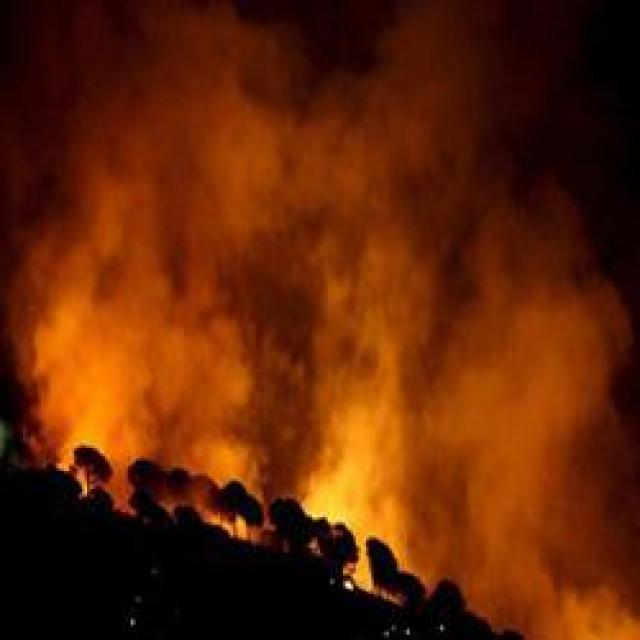fire: (272, 397, 425, 614)
